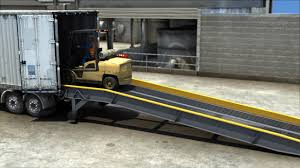Pallet Jack: (59, 26, 135, 90)
Yard Ramp: (62, 81, 300, 156)
